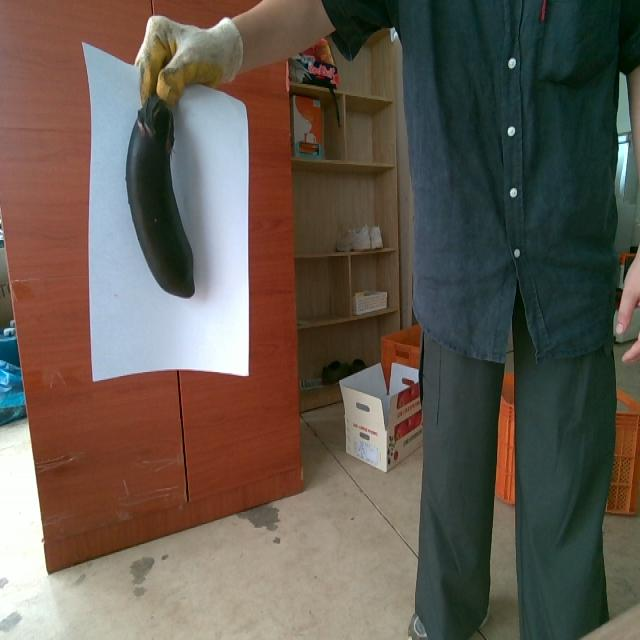Egg plant: (126, 95, 194, 297)
